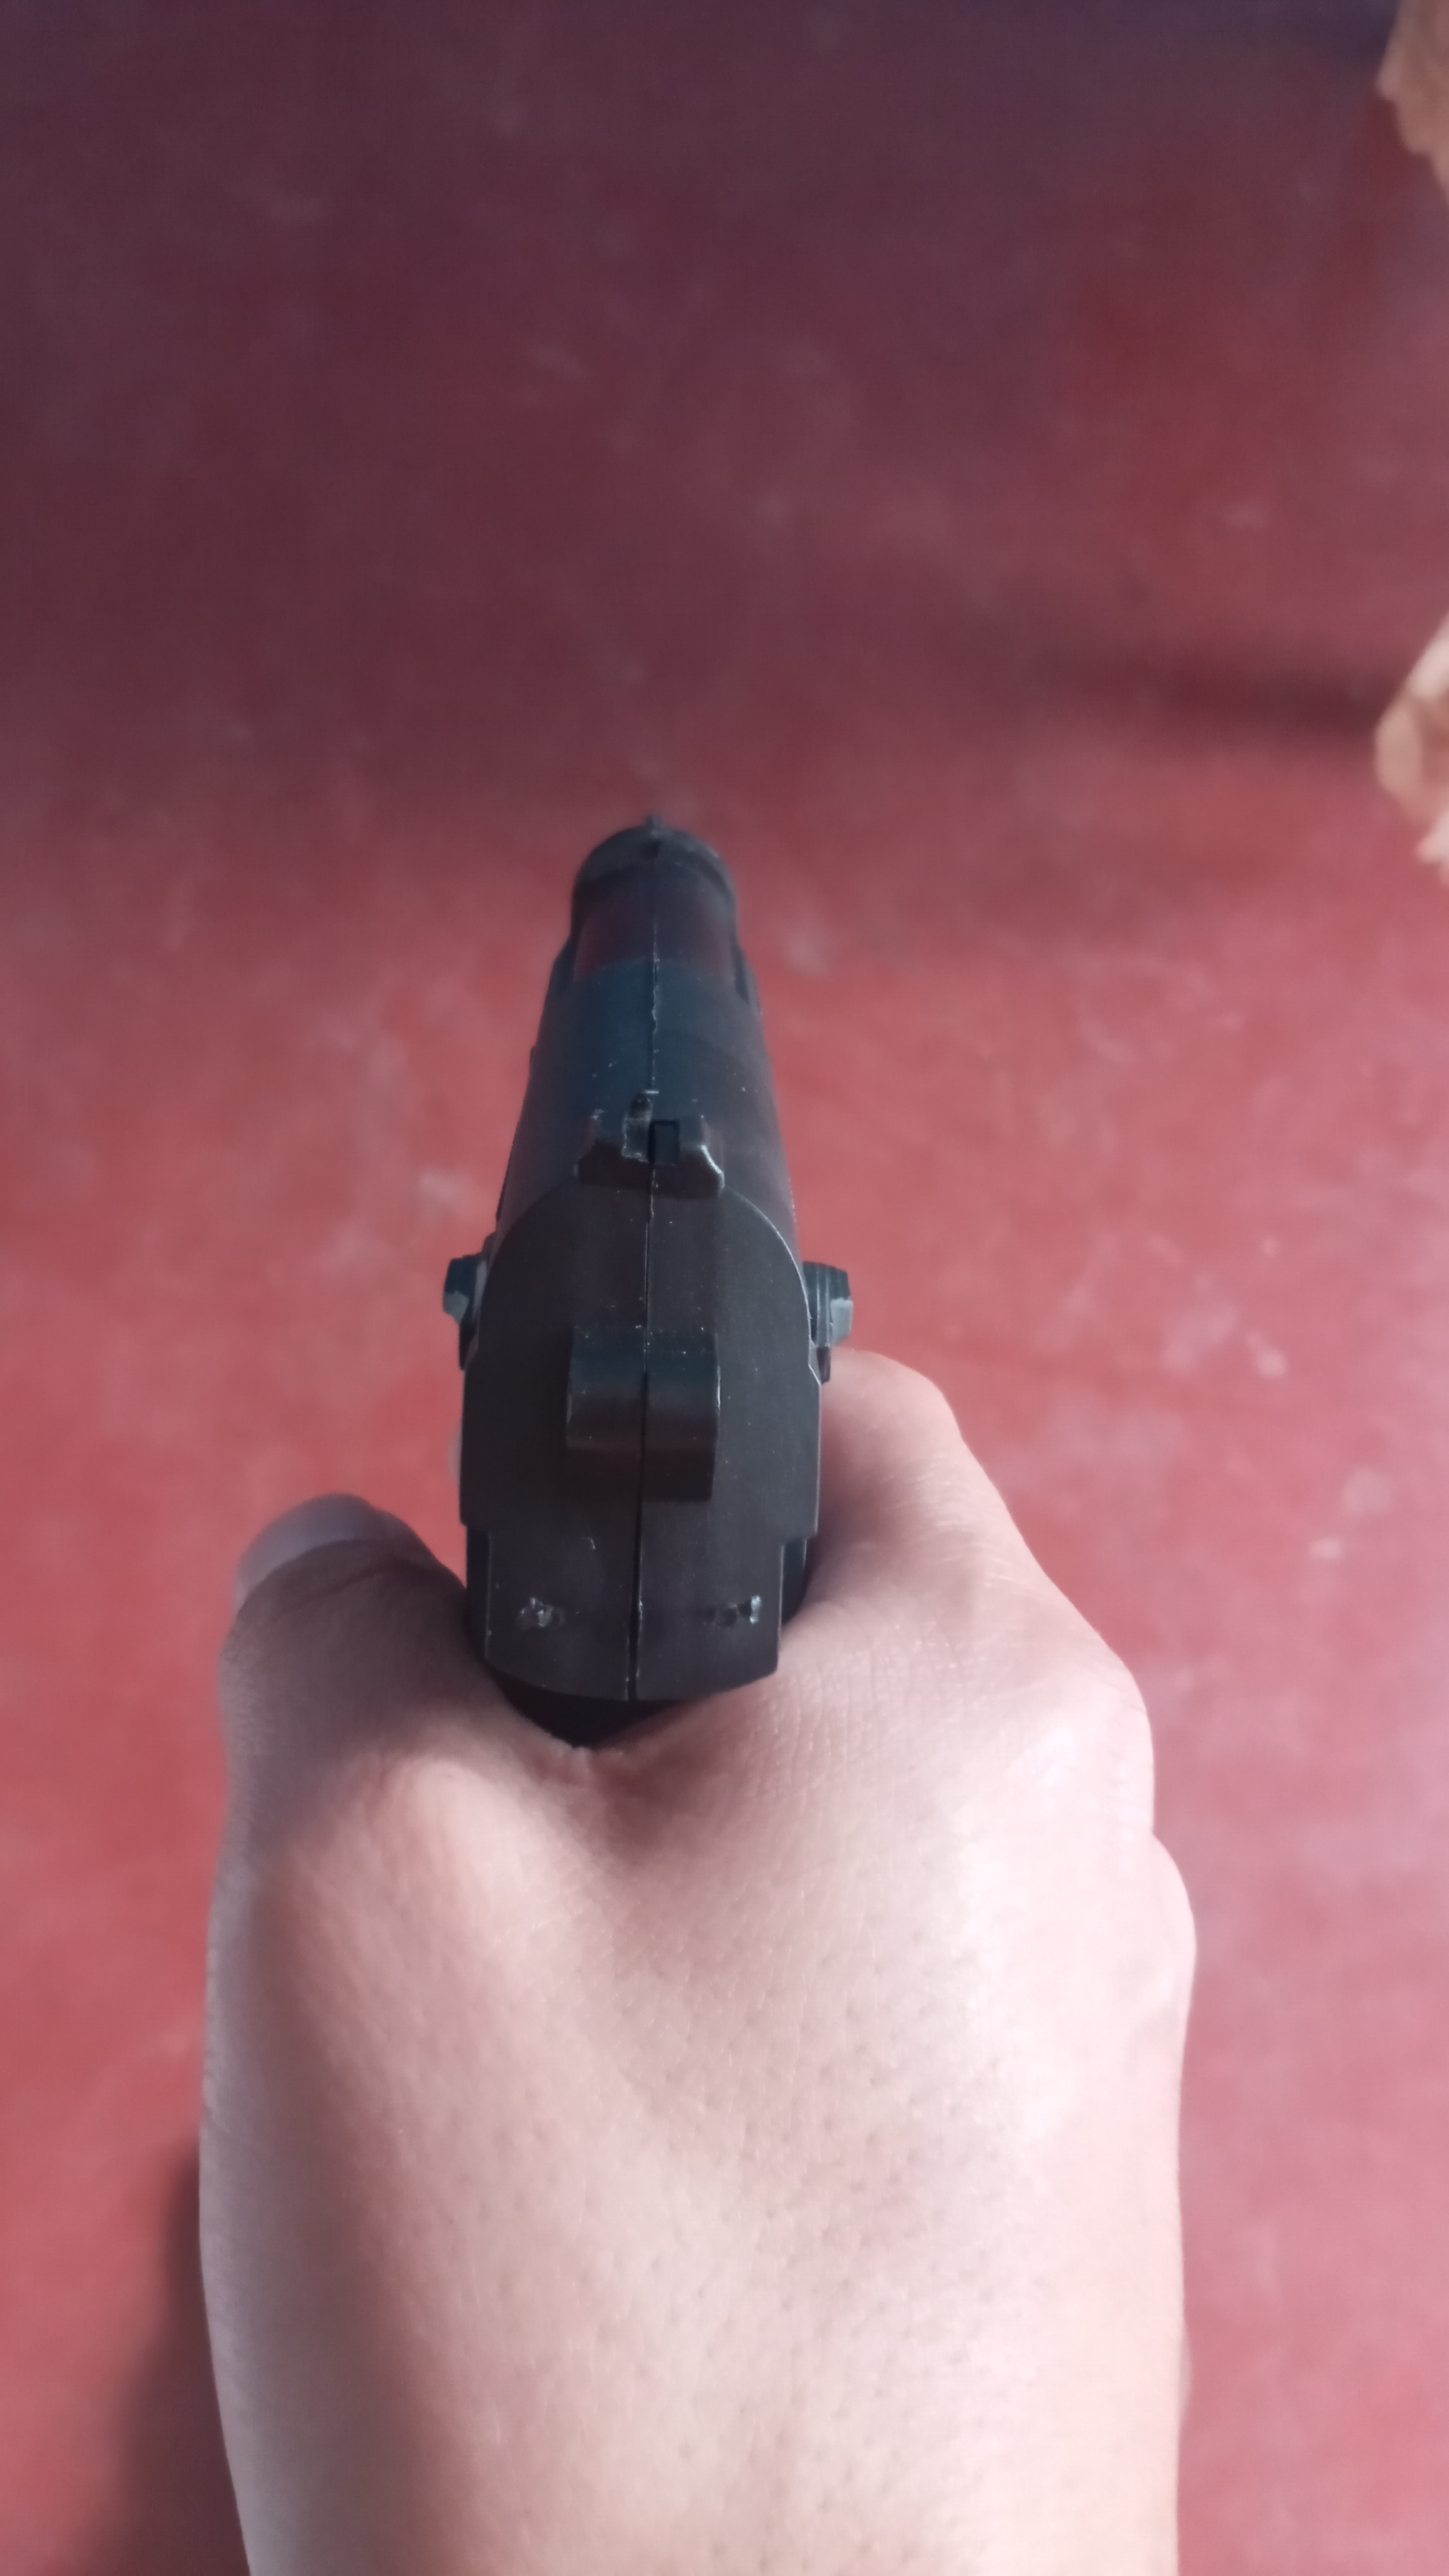Arma: (439, 805, 837, 1720)
